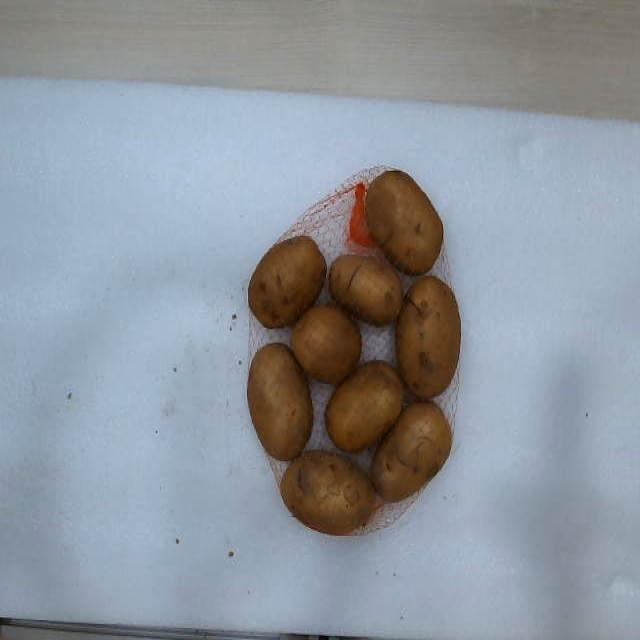potato: (280, 450, 376, 534), (396, 275, 461, 398), (366, 170, 442, 275), (371, 402, 450, 501), (248, 343, 312, 460), (249, 235, 326, 328), (326, 362, 404, 451), (291, 307, 361, 384), (330, 255, 404, 325)
